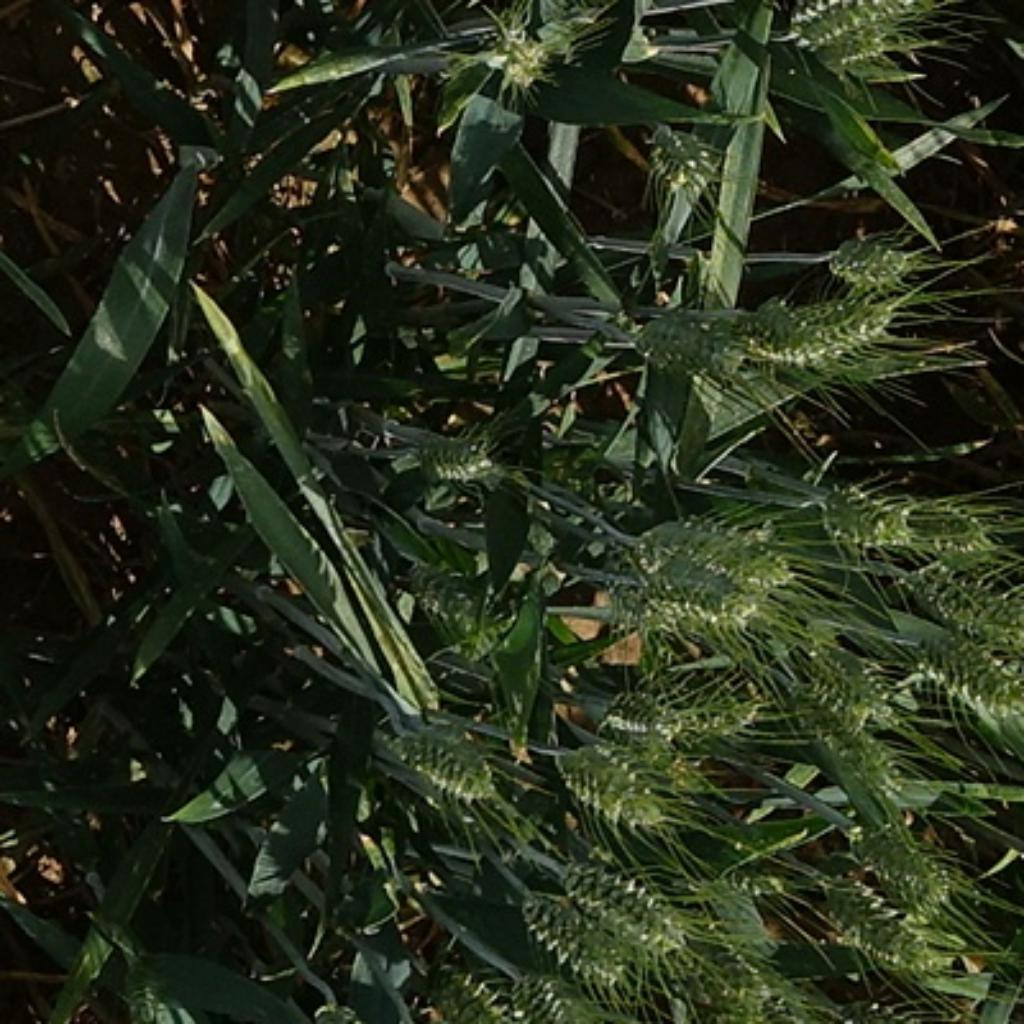0-0: (734, 276, 901, 389), (555, 734, 696, 862), (611, 570, 775, 665), (521, 888, 660, 1000), (632, 504, 793, 599), (550, 861, 697, 960), (619, 291, 765, 381), (373, 704, 504, 803), (816, 875, 936, 977), (844, 811, 962, 908), (389, 547, 514, 637), (573, 683, 706, 765), (906, 637, 1024, 721), (896, 568, 1024, 645), (787, 0, 941, 62), (793, 634, 893, 729), (806, 468, 916, 552), (642, 673, 755, 752), (803, 714, 901, 801), (479, 15, 584, 94), (642, 110, 729, 202), (896, 494, 1011, 558), (396, 422, 501, 491), (816, 225, 924, 291), (422, 963, 529, 1024)
